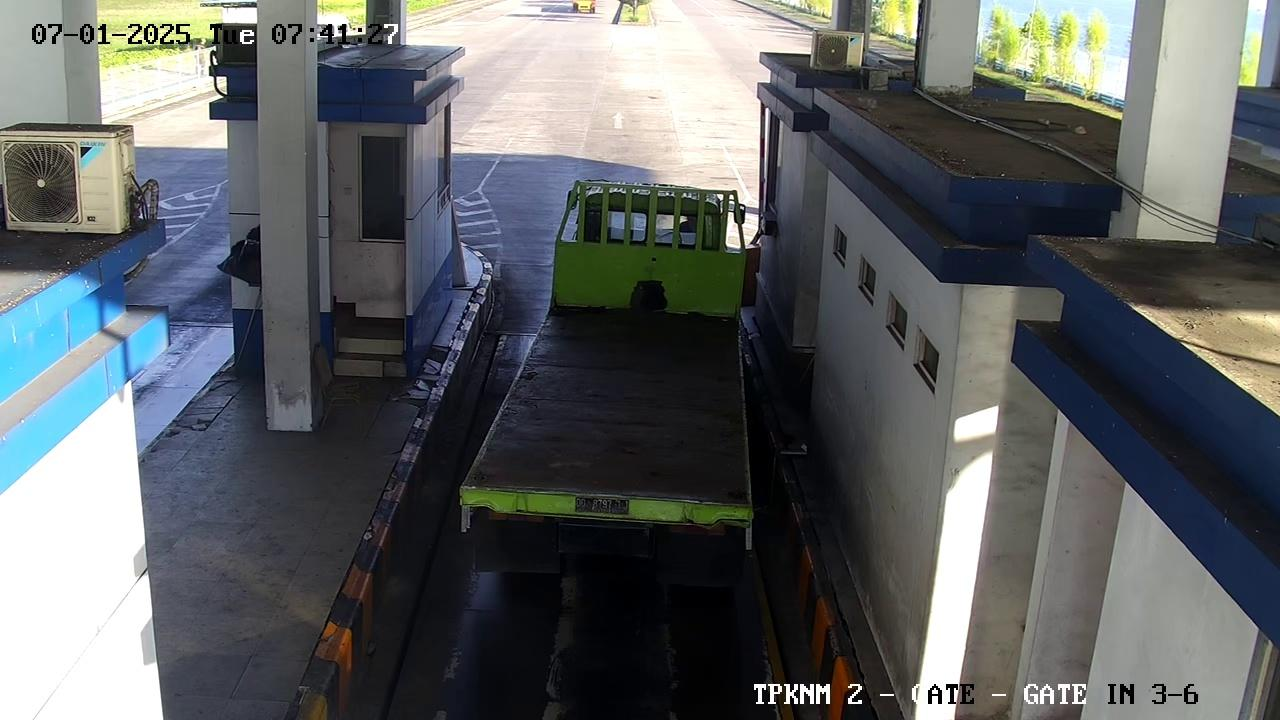plate_number: (561, 492, 642, 529)
